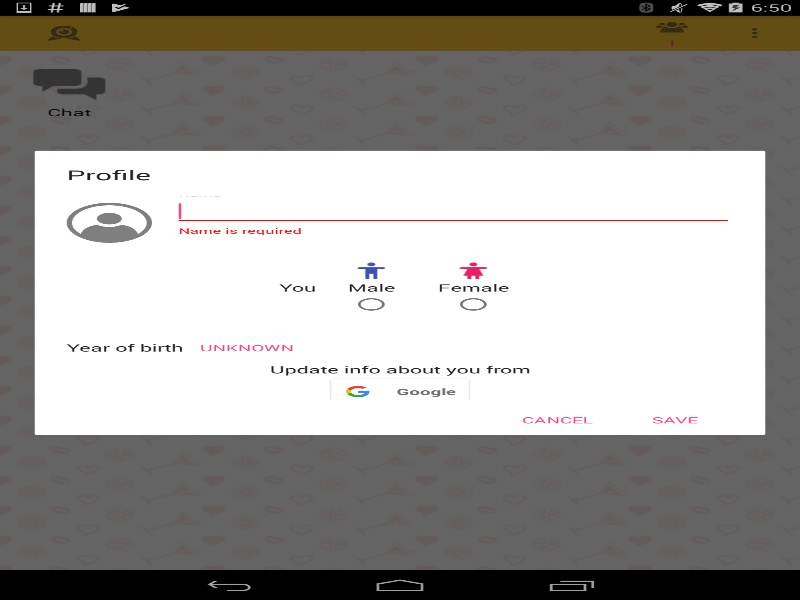Button: (184, 332, 733, 362), (326, 376, 474, 406), (498, 405, 616, 435), (616, 405, 733, 435)
Input: (173, 197, 733, 225)
